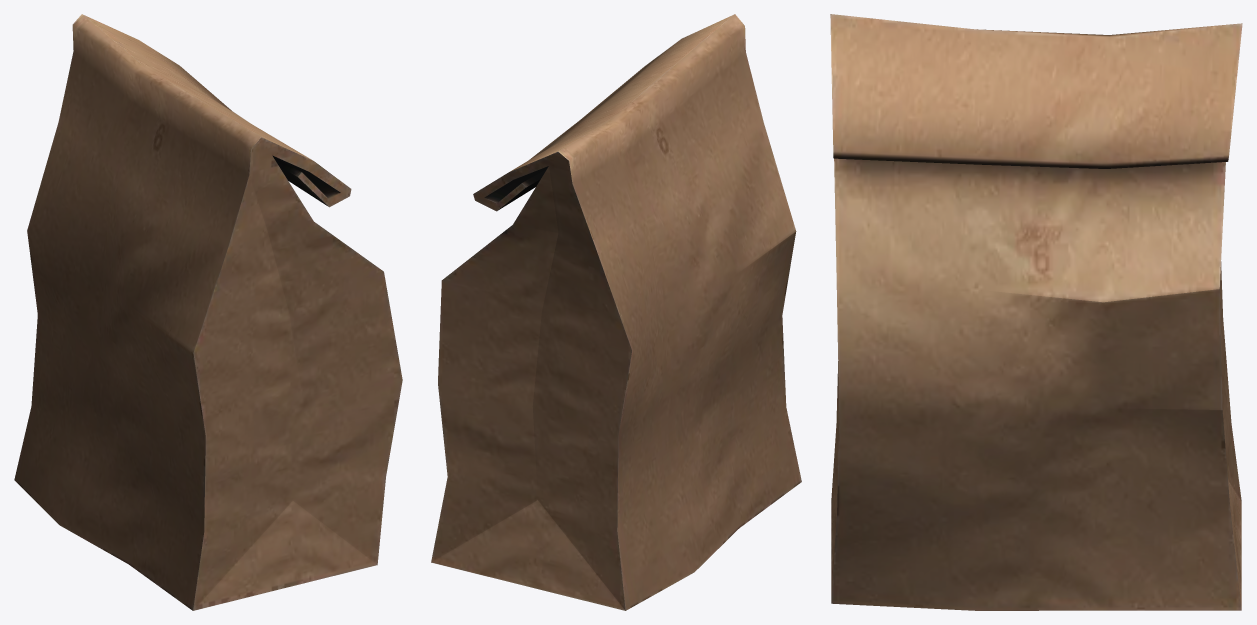
3 views of the same model, side by side, from view 1: azimuth 30°, elevation 25°; view 2: azimuth 150°, elevation 25°; view 3: azimuth 270°, elevation 25° (orthographic). The views are drawn at different scales.
Parts seen in each view (by area): view 1: body0_model0_lod0_mesh0; view 2: body0_model0_lod0_mesh0; view 3: body0_model0_lod0_mesh0.
Boxes of the visible parts, box(x1,y1,x2,y2) form: body0_model0_lod0_mesh0: box(14, 14, 402, 610); body0_model0_lod0_mesh0: box(431, 14, 801, 610); body0_model0_lod0_mesh0: box(830, 14, 1242, 610).
Size of the model in its own units: 9.72 by 18.7 by 13.3.
Materials: 1 (1 with a texture image).
